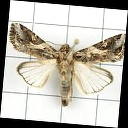Spodoptera litura: (6, 27, 123, 107)
